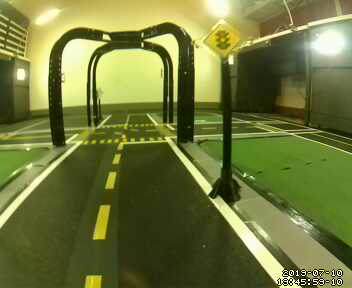Traffic light sign: (203, 21, 242, 61)
